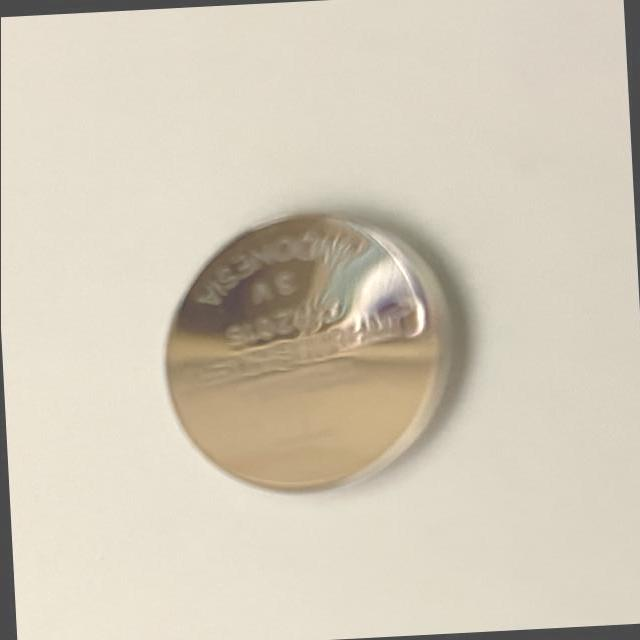COIN: (151, 200, 474, 506)
